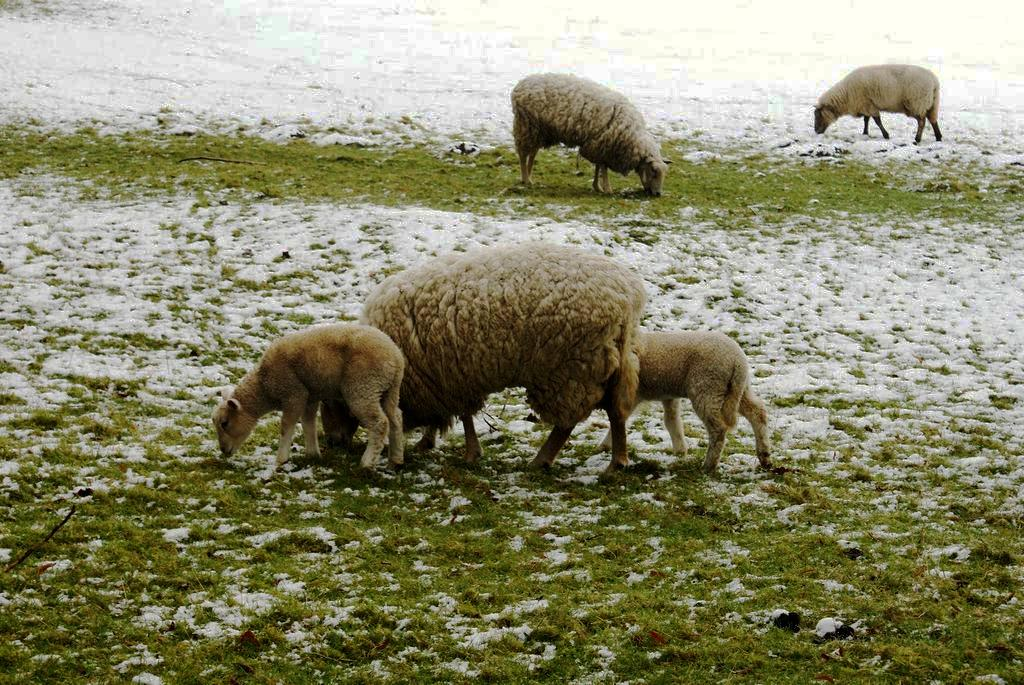Sheep: (354, 239, 674, 486), (215, 323, 405, 479), (603, 322, 775, 474), (512, 72, 672, 200), (814, 65, 939, 144)
